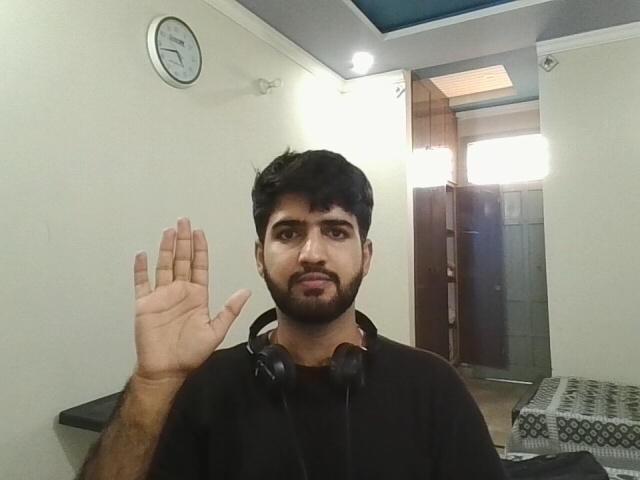Hello: (108, 208, 256, 386)
